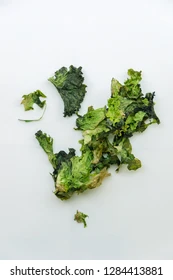lettuce rotten: (22, 54, 159, 210)
